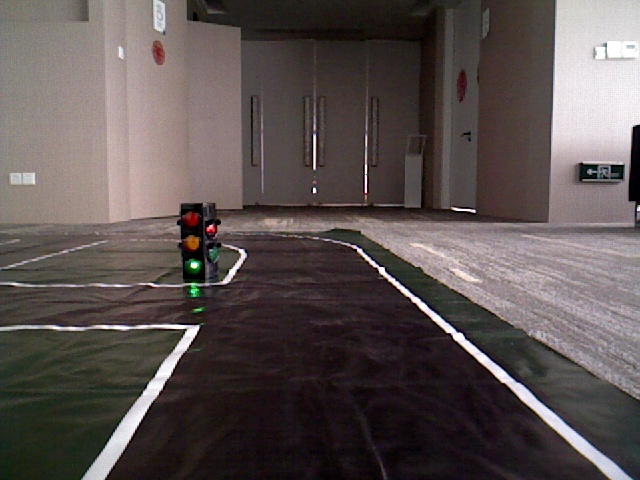green: (177, 207, 205, 273)
